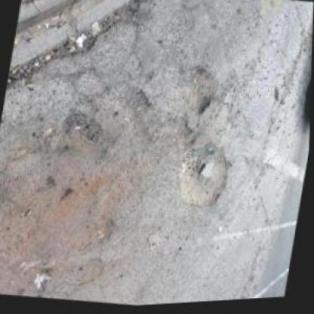Hueco: (6, 0, 141, 106), (171, 137, 236, 217), (174, 65, 224, 121), (57, 109, 106, 162)
